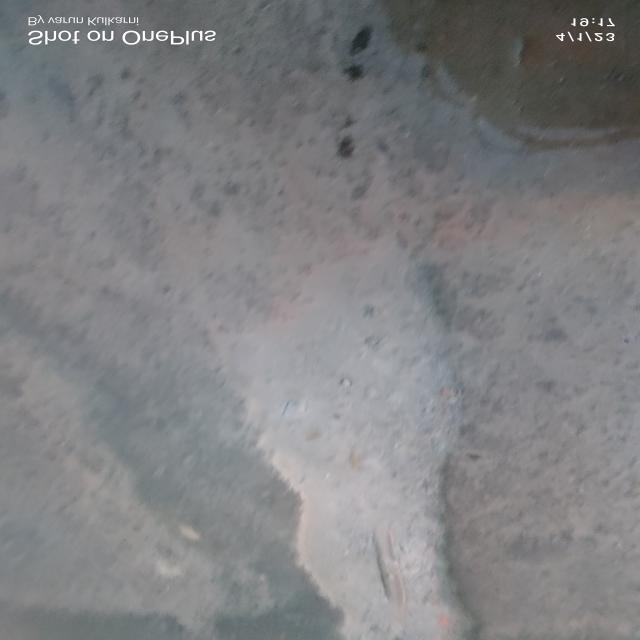potholes: (235, 187, 486, 640)
